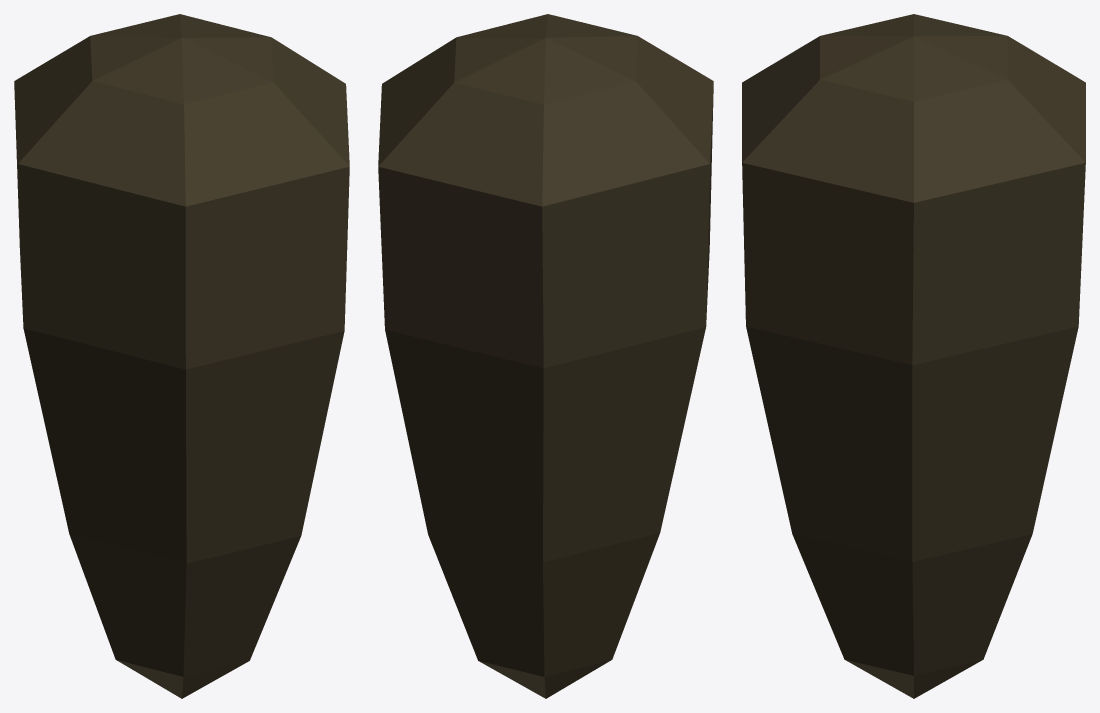
Rendered from ITFO_WINEBERRYS_02.OBJ.
3 views of the same model, side by side, from view 1: azimuth 30°, elevation 25°; view 2: azimuth 150°, elevation 25°; view 3: azimuth 270°, elevation 25° (orthographic).
Parts seen in each view (by area): view 1: ITFO_WINEBERRYS_02; view 2: ITFO_WINEBERRYS_02; view 3: ITFO_WINEBERRYS_02.
Boxes of the visible parts, x1,y1,x2,y2 form: ITFO_WINEBERRYS_02: (14,14,349,698); ITFO_WINEBERRYS_02: (378,14,713,698); ITFO_WINEBERRYS_02: (742,14,1085,698).
Bounding box in the file's own units: 0.1232 × 0.2371 × 0.1115.
